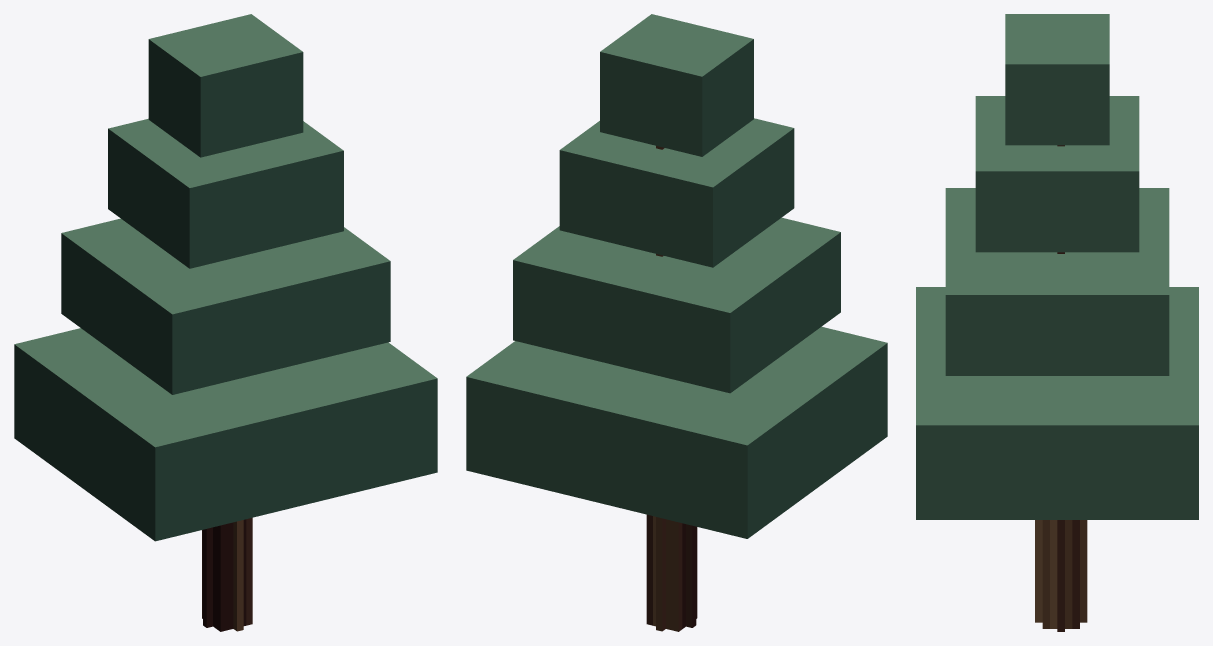
Rendered from veg_tree-pine_var01_large.glb.
The picture shows the model from 3 angles, left to right: view 1: azimuth 30°, elevation 25°; view 2: azimuth 150°, elevation 25°; view 3: azimuth 270°, elevation 25°; orthographic projection.
Visible parts, largest first — view 1: veg_tree-pine_var01_large; view 2: veg_tree-pine_var01_large; view 3: veg_tree-pine_var01_large.
Boxes of the visible parts, x1,y1,x2,y2 form: veg_tree-pine_var01_large: [14, 14, 437, 631]; veg_tree-pine_var01_large: [466, 14, 887, 631]; veg_tree-pine_var01_large: [916, 14, 1198, 631].
Size of the model in its own units: 2.75 by 5.38 by 2.38.
